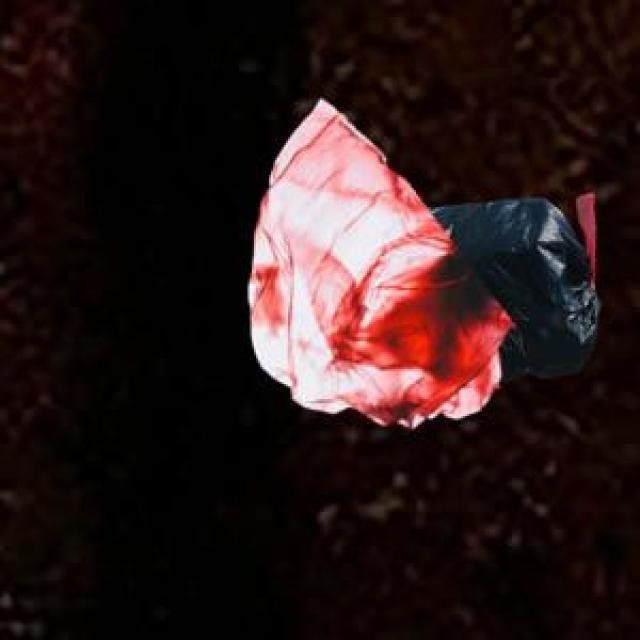miscellaneous trash: (425, 190, 597, 376)
